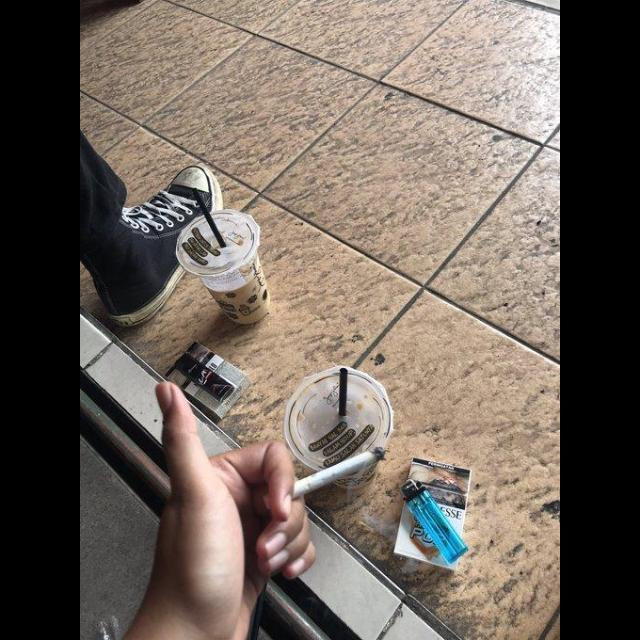rokok: (293, 443, 387, 497)
